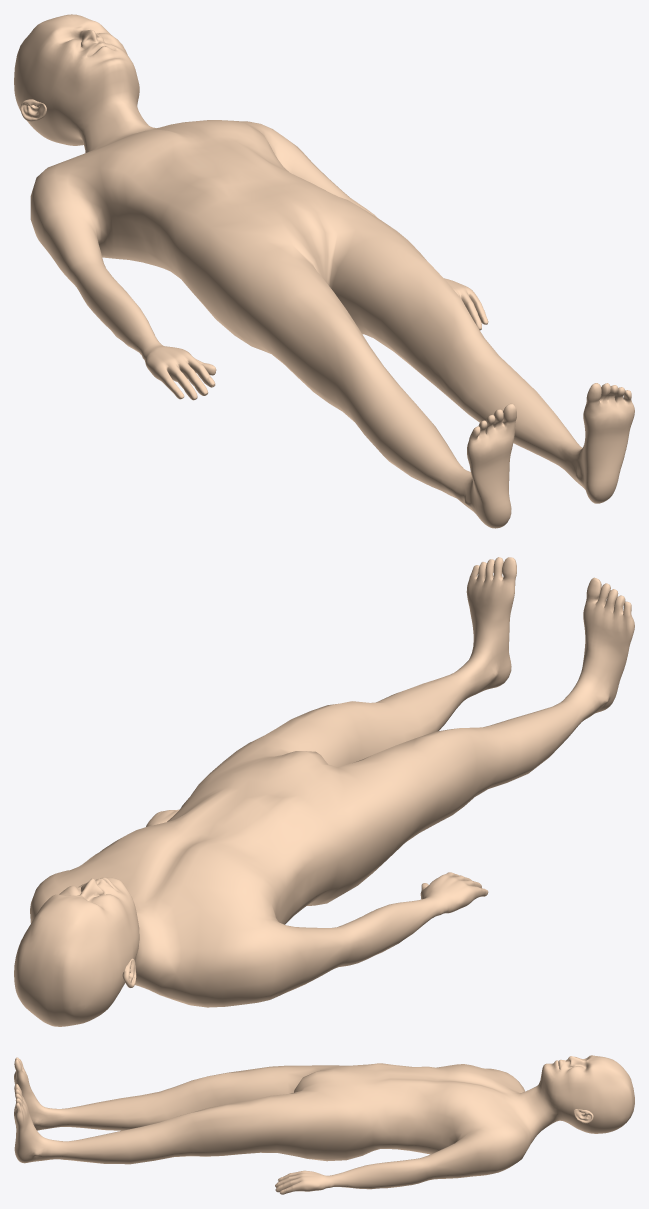
The model's file is justPatient.fbx.
The picture shows the model from 3 angles, top to bottom: view 1: azimuth 30°, elevation 25°; view 2: azimuth 150°, elevation 25°; view 3: azimuth 270°, elevation 25°; orthographic projection. The views are drawn at different scales.
Parts seen in each view (by area): view 1: JustPatient; view 2: JustPatient; view 3: JustPatient.
Part boxes in pixels (x1,y1,x2,y2): JustPatient: [14, 14, 634, 528]; JustPatient: [14, 557, 634, 1026]; JustPatient: [14, 1055, 634, 1194].
Size of the model in its own units: 64.77 by 30.64 by 182.
